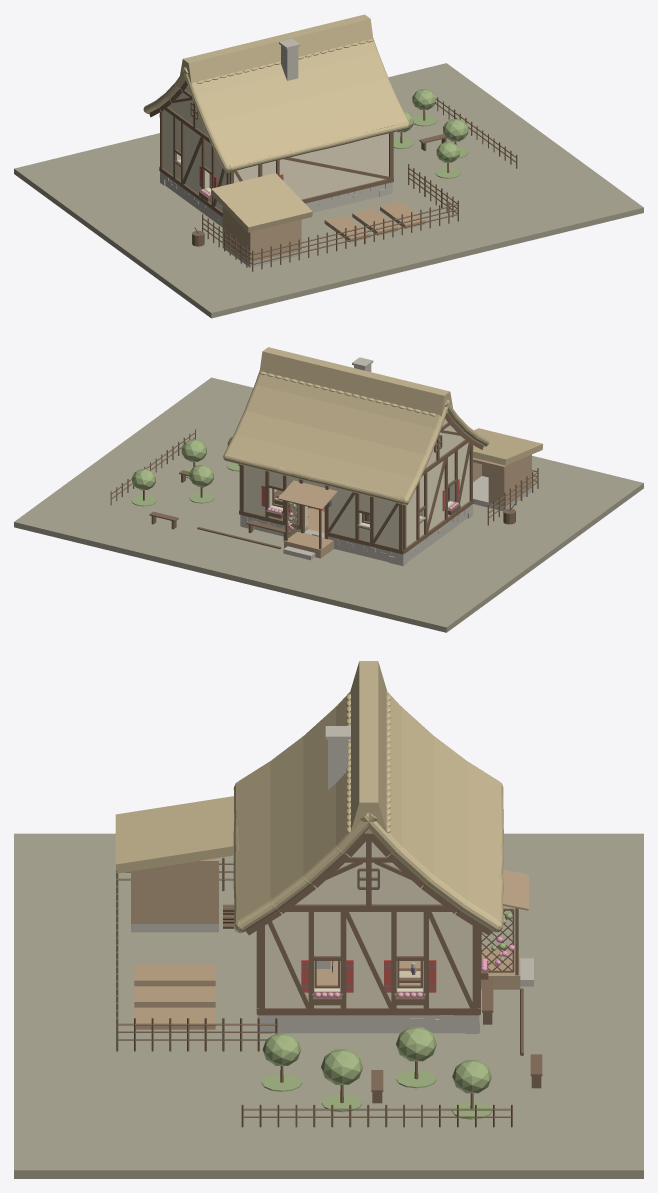
File: garden-house-1818.glb
The picture shows the model from 3 angles, top to bottom: view 1: azimuth 30°, elevation 25°; view 2: azimuth 150°, elevation 25°; view 3: azimuth 270°, elevation 25°; orthographic projection. The views are drawn at different scales.
Parts seen in each view (by area): view 1: zemlya__m00, krysha__m03, obolochka__m01, melochi__m02, obolochka__m02, obolochka__m09, obolochka__m00, melochi__m09, zelen__m07, melochi__m07, krysha__m00; view 2: zemlya__m00, krysha__m03, obolochka__m01, obolochka__m02, obolochka__m09, obolochka__m00, melochi__m02, zelen__m07, melochi__m07; view 3: zemlya__m00, krysha__m03, obolochka__m01, obolochka__m02, obolochka__m09, melochi__m02, melochi__m09, obolochka__m00, zelen__m07, melochi__m07, krysha__m02, krysha__m00 (+1 smaller).
Part boxes in pixels (x1,y1,x2,y2): zemlya__m00: [14, 63, 643, 318]; krysha__m03: [143, 14, 409, 232]; obolochka__m01: [163, 86, 388, 211]; melochi__m02: [192, 97, 517, 271]; obolochka__m02: [159, 90, 393, 216]; obolochka__m09: [222, 206, 301, 262]; obolochka__m00: [160, 160, 392, 267]; melochi__m09: [324, 201, 425, 242]; zelen__m07: [397, 89, 468, 162]; melochi__m07: [393, 115, 468, 178]; krysha__m00: [279, 38, 300, 80]; zemlya__m00: [14, 377, 643, 632]; krysha__m03: [223, 347, 542, 505]; obolochka__m01: [244, 419, 469, 548]; obolochka__m02: [239, 422, 473, 554]; obolochka__m09: [277, 454, 531, 558]; obolochka__m00: [240, 476, 531, 566]; melochi__m02: [110, 429, 538, 549]; zelen__m07: [132, 437, 232, 490]; melochi__m07: [131, 462, 295, 528]; zemlya__m00: [14, 833, 643, 1178]; krysha__m03: [115, 661, 503, 933]; obolochka__m01: [265, 842, 472, 1007]; obolochka__m02: [256, 838, 518, 1015]; obolochka__m09: [131, 858, 528, 989]; melochi__m02: [116, 857, 542, 1127]; melochi__m09: [134, 964, 215, 1029]; obolochka__m00: [131, 924, 533, 1033]; zelen__m07: [262, 1027, 491, 1093]; melochi__m07: [261, 912, 512, 1119]; krysha__m02: [245, 833, 491, 935]; krysha__m00: [325, 726, 350, 789].
Bounding box in the file's own units: 23.53 × 8.17 × 18.6.
